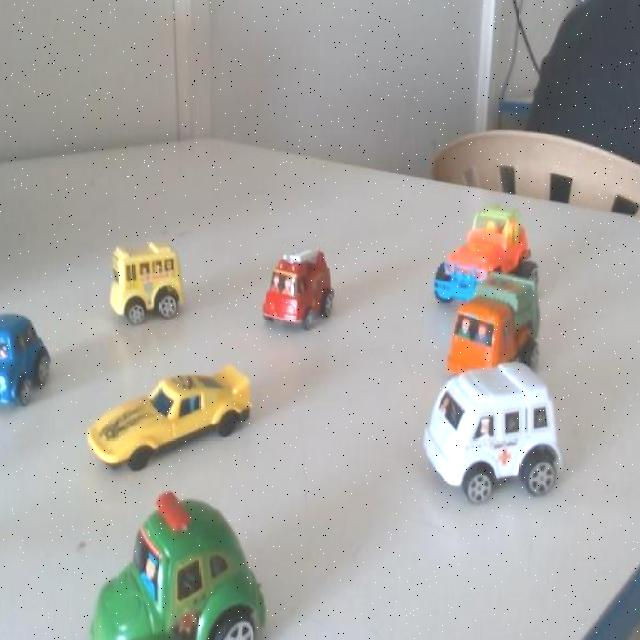car: (400, 339, 555, 529), (82, 501, 247, 640), (98, 356, 239, 486), (98, 234, 190, 340), (424, 199, 511, 310), (262, 235, 341, 349), (453, 266, 522, 386), (0, 311, 36, 412)
